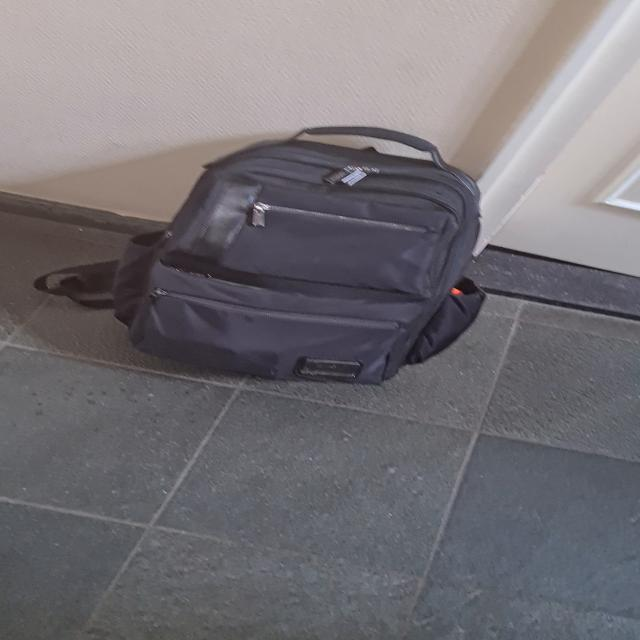backpack: (118, 119, 506, 391)
